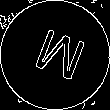M_S: (24, 23, 86, 87)
